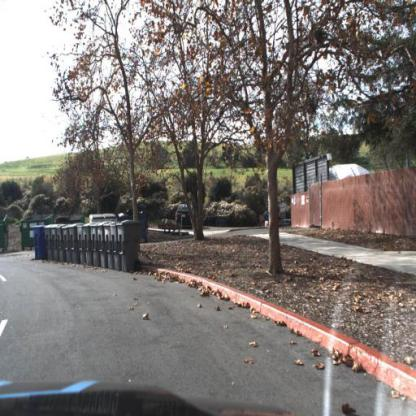car: (172, 203, 194, 233)
